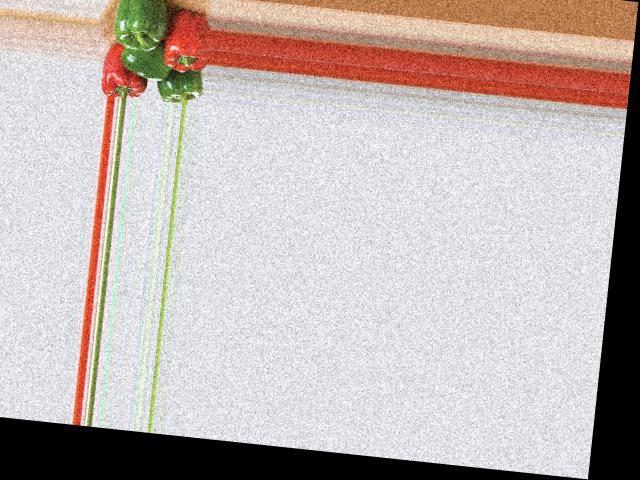bell_pepper: (159, 2, 212, 72)
